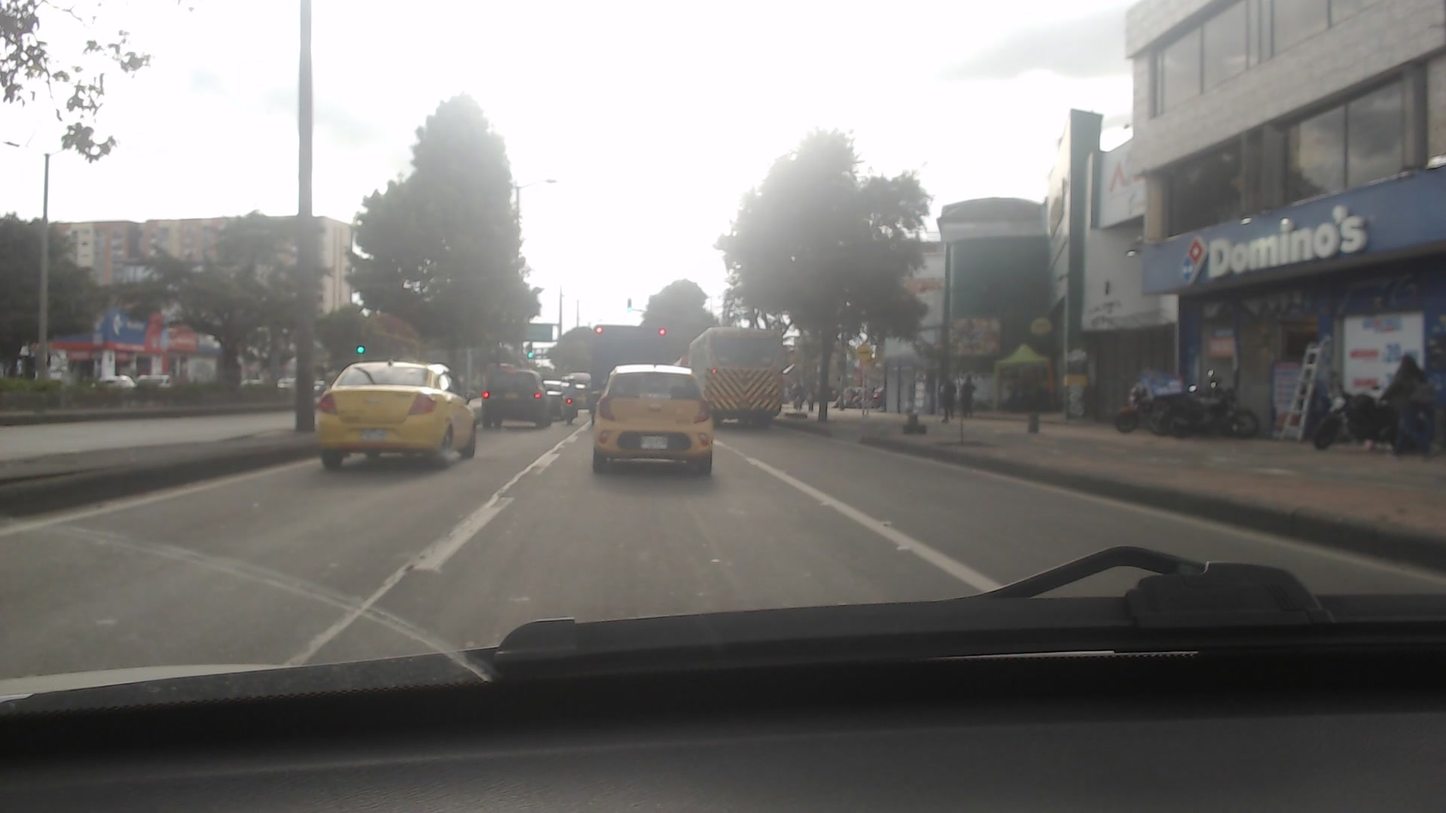bus: (685, 327, 782, 429)
car: (315, 360, 477, 467), (589, 363, 716, 478), (476, 367, 553, 428)
motorcycle: (554, 397, 583, 425)
person: (1380, 353, 1437, 459), (939, 378, 958, 424), (560, 376, 581, 417), (959, 375, 977, 422)
truck: (589, 322, 679, 364)
